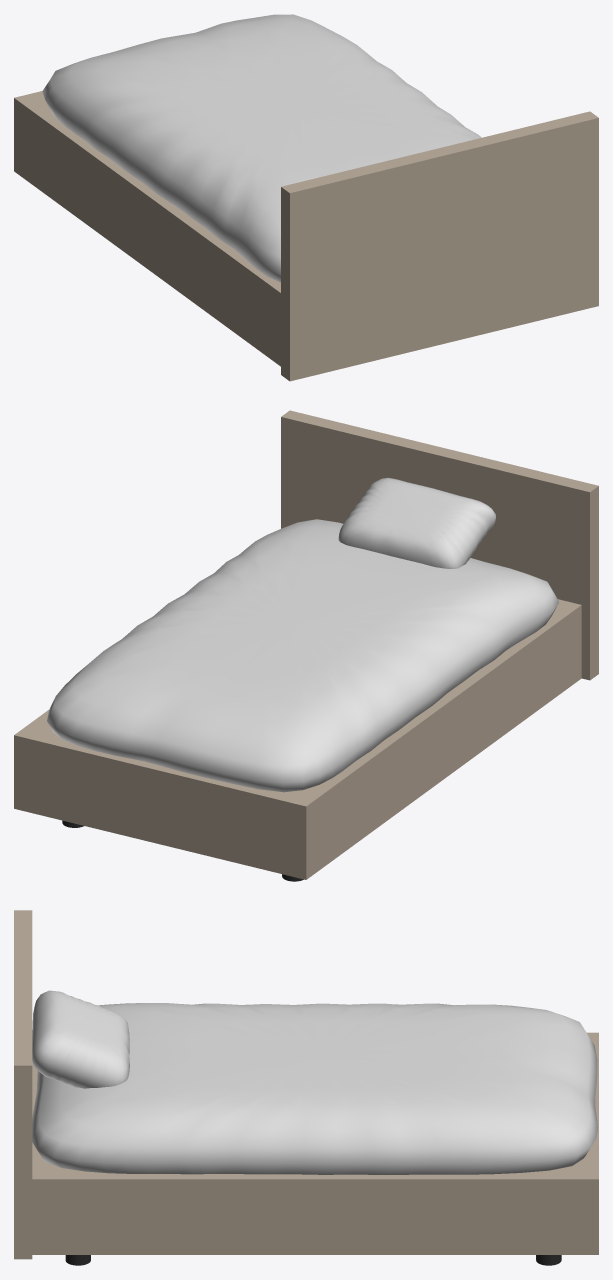
Rendered from Lit1_3.fbx.
The picture shows the model from 3 angles, top to bottom: view 1: azimuth 30°, elevation 25°; view 2: azimuth 150°, elevation 25°; view 3: azimuth 270°, elevation 25°; orthographic projection. The views are drawn at different scales.
Visible parts, largest first — view 1: pCube2134, pCylinder1506, pCube2135; view 2: pCylinder1506, pCube2135, pCube2134, pCylinder1507; view 3: pCylinder1506, pCube2135, pCylinder1507, pCube2134, pCylinder1508.
Boxes of the visible parts, left/top/right/bottom form: pCube2134: left=281, top=111, right=598, bottom=381; pCylinder1506: left=42, top=14, right=481, bottom=282; pCube2135: left=14, top=91, right=280, bottom=366; pCylinder1506: left=47, top=519, right=558, bottom=792; pCube2135: left=14, top=599, right=581, bottom=879; pCube2134: left=281, top=410, right=598, bottom=680; pCylinder1507: left=338, top=477, right=495, bottom=568; pCylinder1506: left=32, top=1003, right=597, bottom=1174; pCube2135: left=32, top=1032, right=598, bottom=1254; pCylinder1507: left=32, top=990, right=129, bottom=1088; pCube2134: left=14, top=910, right=32, bottom=1259; pCylinder1508: left=65, top=1255, right=561, bottom=1265.
Size of the model in its own units: 89.96 by 58.72 by 143.
